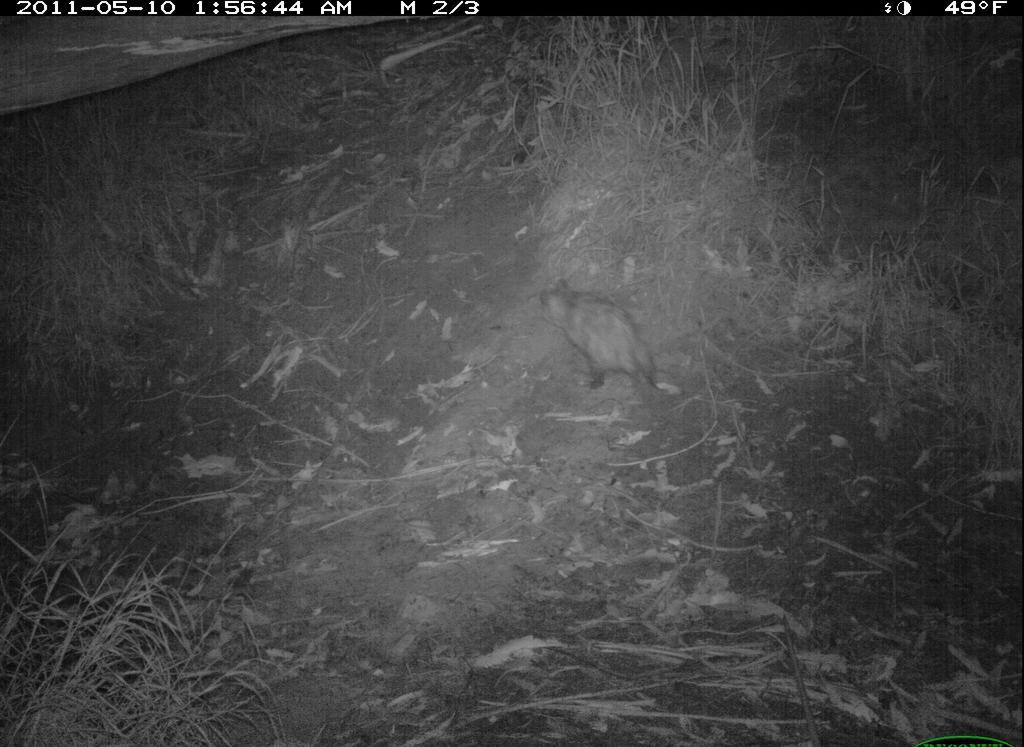opossum: (528, 268, 693, 451)
